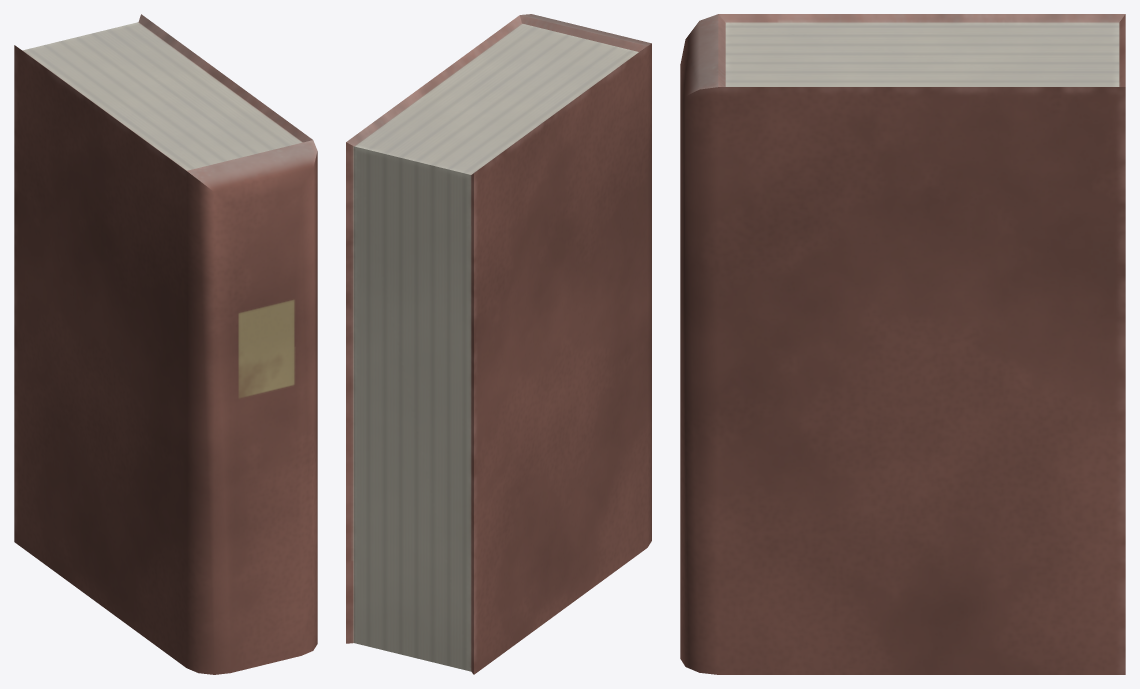
File: Book1.fbx
The picture shows the model from 3 angles, left to right: view 1: azimuth 30°, elevation 25°; view 2: azimuth 150°, elevation 25°; view 3: azimuth 270°, elevation 25°; orthographic projection. The views are drawn at different scales.
Parts seen in each view (by area): view 1: book; view 2: book; view 3: book.
Part boxes in pixels (box(x1,y1,x2,y2)): book: box(14, 14, 317, 674); book: box(346, 14, 651, 674); book: box(680, 14, 1125, 674).
Bounding box in the file's own units: 0.068 × 0.255 × 0.175.
Materials: 1 (1 with a texture image).
